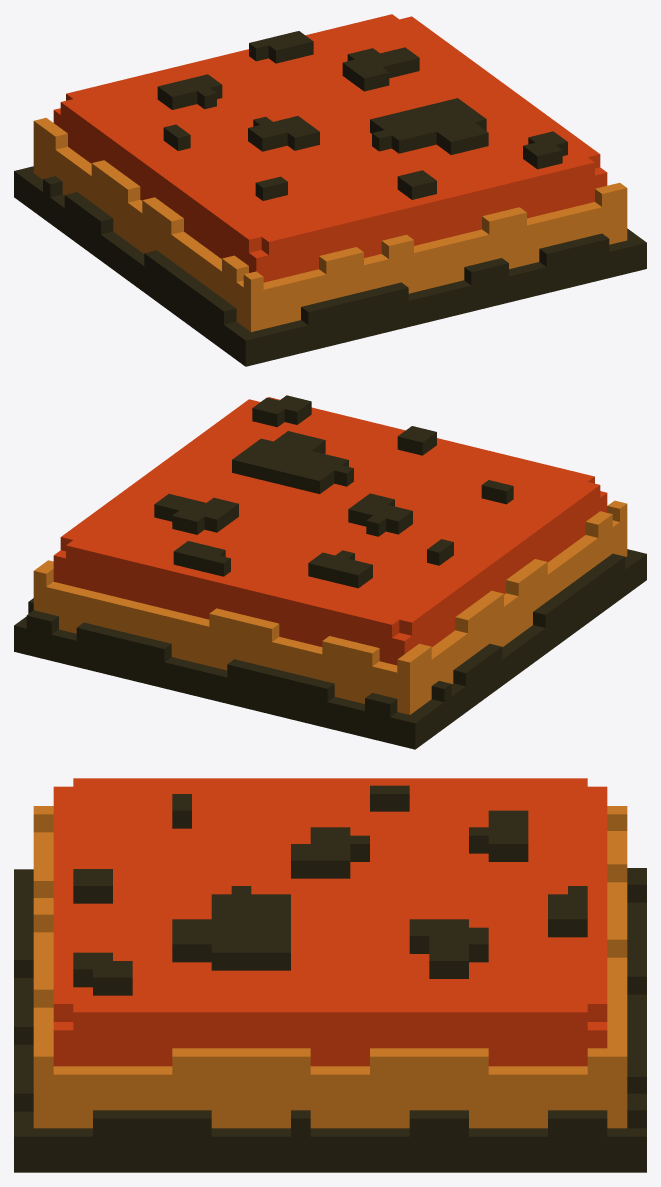
File: mod_lava.obj
3 renders of one model, top to bottom at view 1: azimuth 30°, elevation 25°; view 2: azimuth 150°, elevation 25°; view 3: azimuth 270°, elevation 25°, orthographic. The views are drawn at different scales.
Size of the model in its own units: 32 by 9 by 32.
